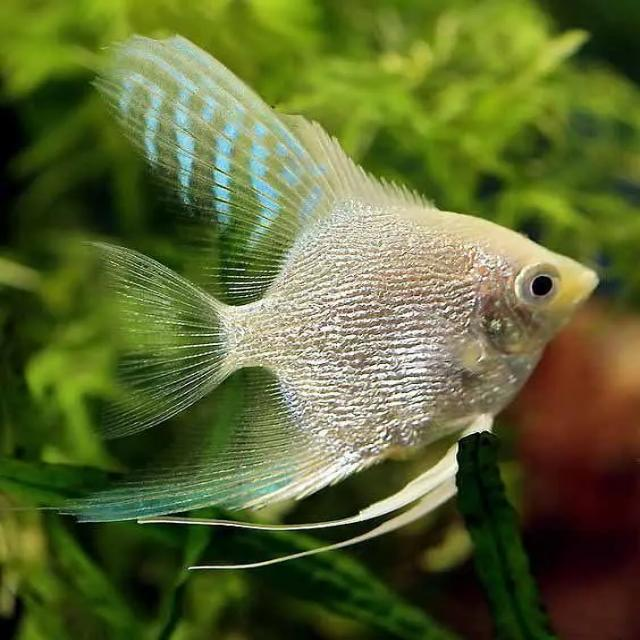AngelFish: (98, 26, 599, 571)
